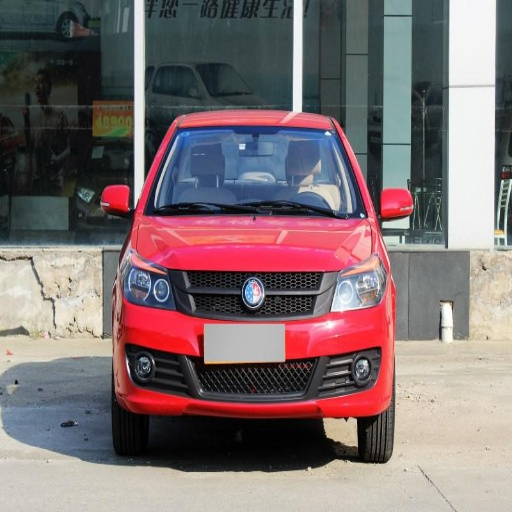front_bumper: (116, 270, 390, 414)
front_right_light: (124, 257, 174, 309)
hood: (131, 216, 381, 270)
left_mirror: (379, 188, 413, 224)
